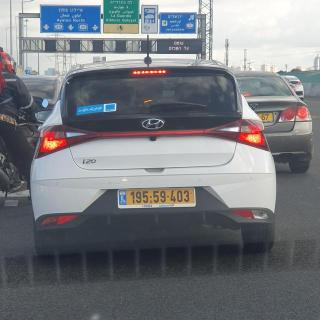LicensePlate: (126, 189, 194, 205)
